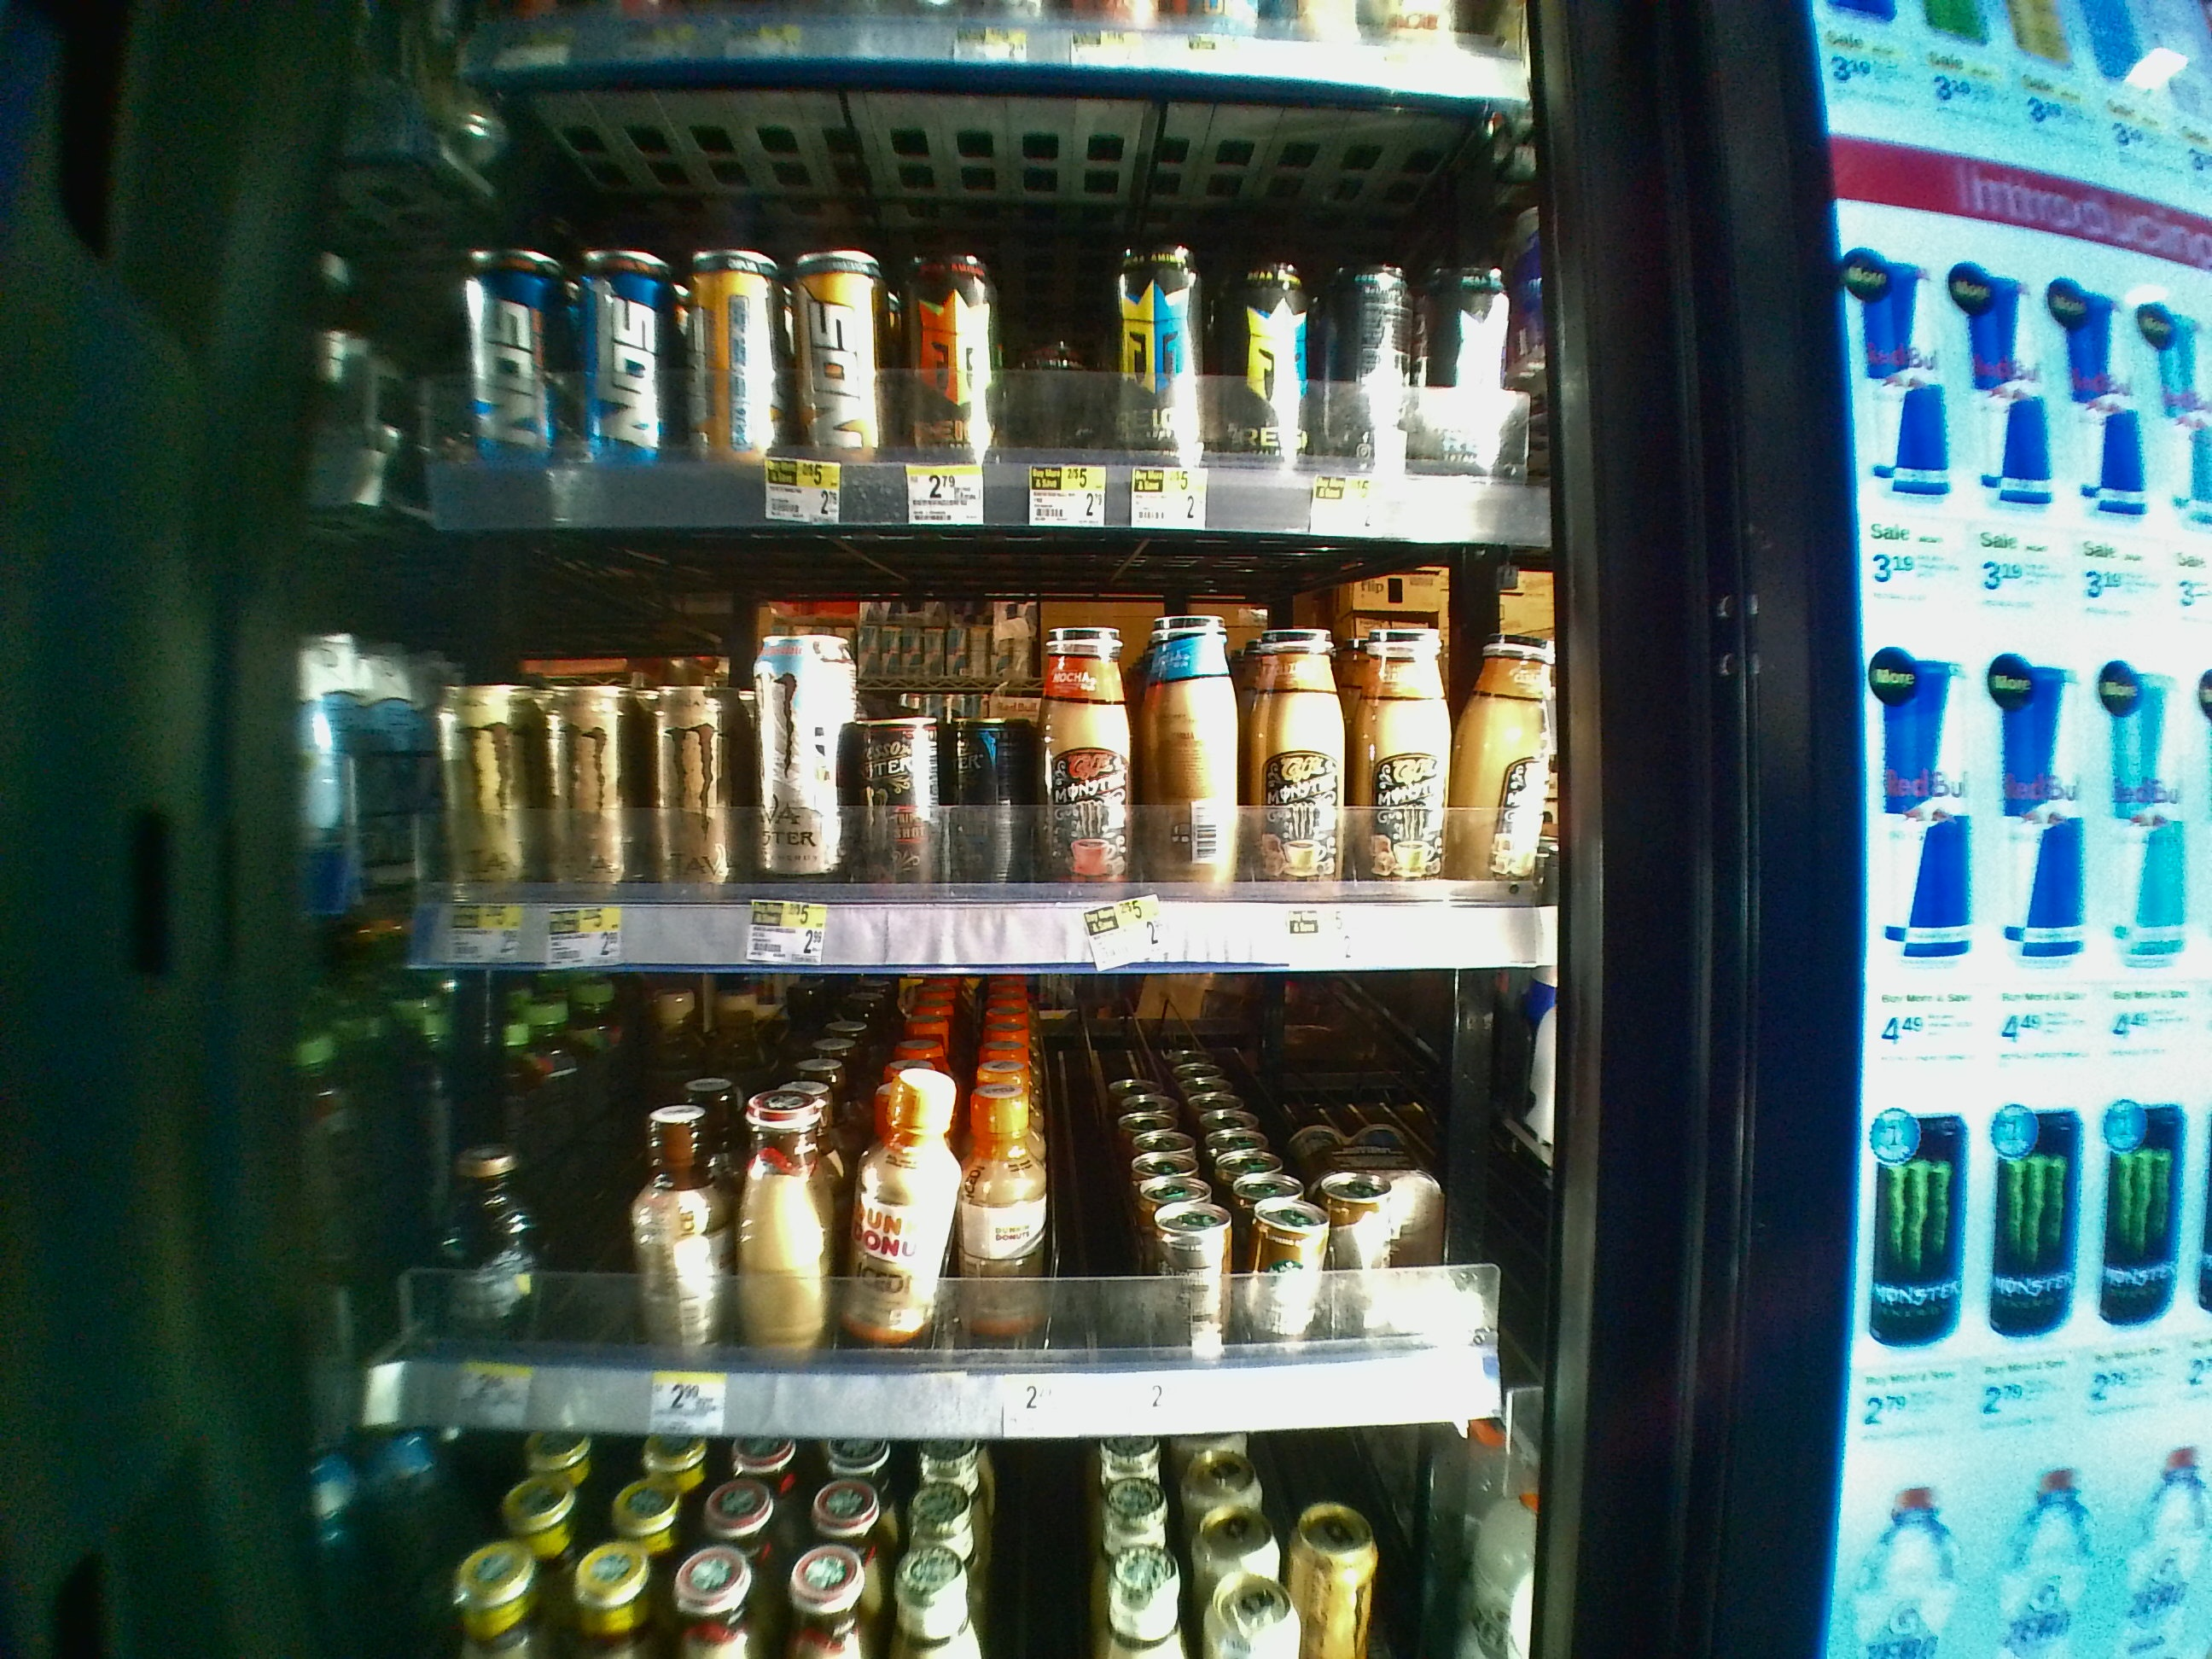shelf: (284, 964, 1590, 1425), (300, 525, 1581, 965)
